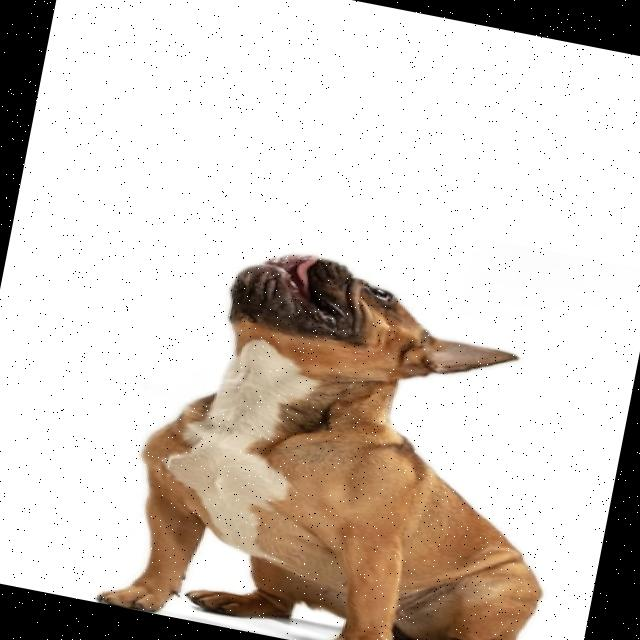Dog: (99, 225, 596, 640)
